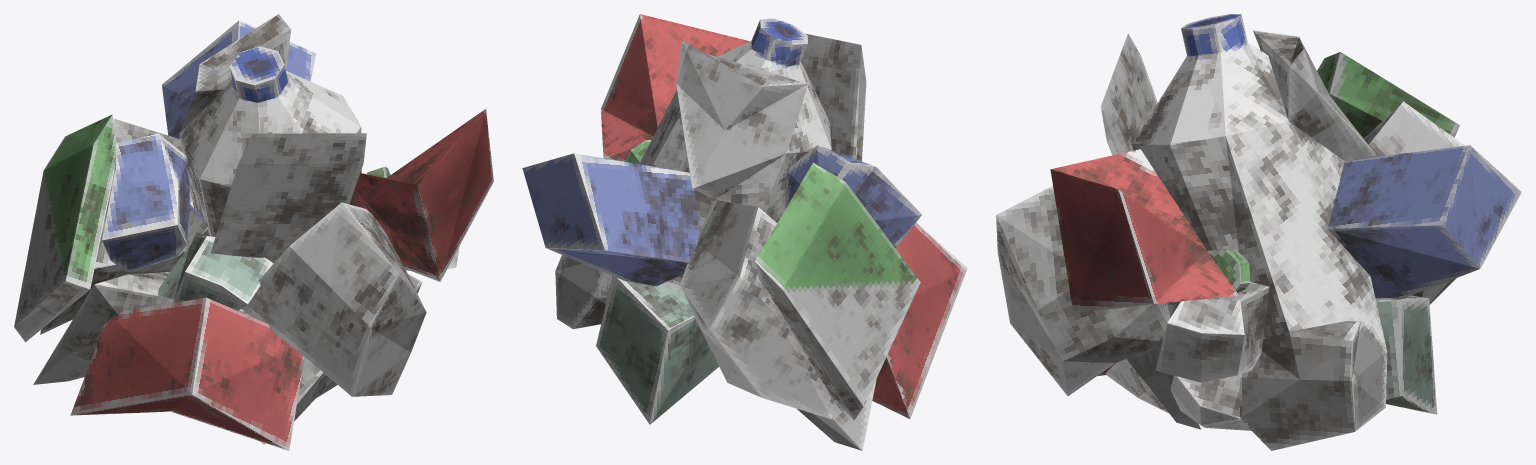
Rendered from PlasticScrap.glb.
The picture shows the model from 3 angles, left to right: view 1: azimuth 30°, elevation 25°; view 2: azimuth 150°, elevation 25°; view 3: azimuth 270°, elevation 25°; orthographic projection. The views are drawn at different scales.
Parts seen in each view (by area): view 1: Cube.012; view 2: Cube.012; view 3: Cube.012.
Part boxes in pixels (left/top/right/bottom): Cube.012: left=14, top=14, right=493, bottom=450; Cube.012: left=522, top=14, right=967, bottom=450; Cube.012: left=996, top=14, right=1521, bottom=450.
Size of the model in its own units: 0.2036 by 0.1785 by 0.2197.
1 material, 1 textured.
